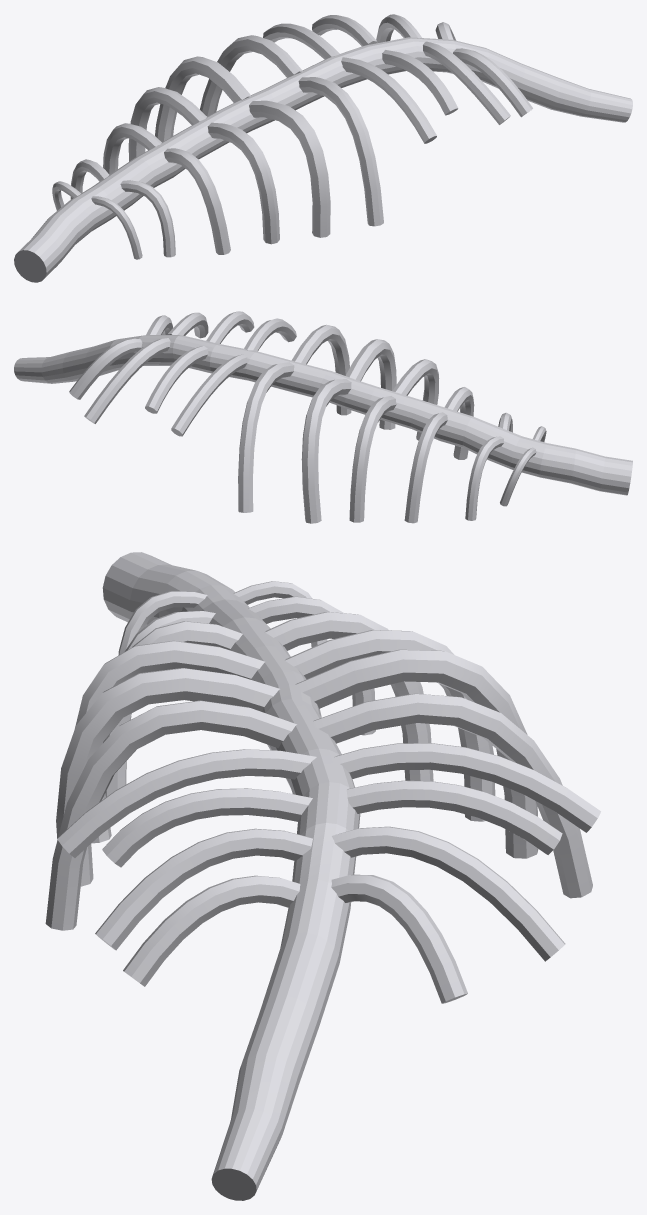
The model's file is skelett.FBX.
3 renders of one model, top to bottom at view 1: azimuth 30°, elevation 25°; view 2: azimuth 150°, elevation 25°; view 3: azimuth 270°, elevation 25°, orthographic. The views are drawn at different scales.
Parts seen in each view (by area): view 1: spine; view 2: spine; view 3: spine.
Part boxes in pixels (x1,y1,x2,y2): spine: (14, 14, 632, 282); spine: (14, 311, 632, 523); spine: (45, 552, 600, 1200).
Size of the model in its own units: 9.69 by 1.79 by 3.92.
